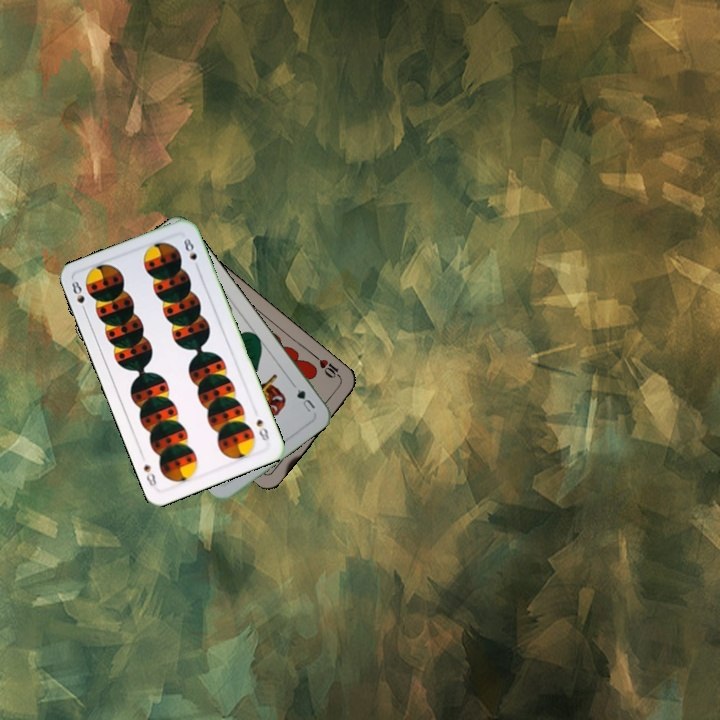GU: (293, 385, 318, 415)
H10: (311, 352, 344, 383)
S8: (67, 277, 89, 316), (252, 415, 272, 444)
